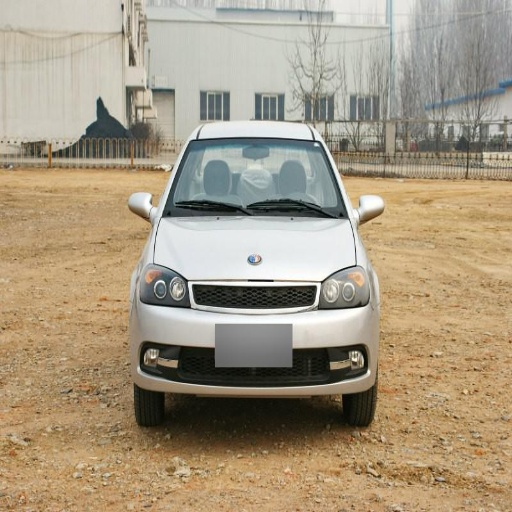front_bumper: (133, 269, 376, 399)
front_right_light: (138, 265, 187, 304)
hood: (155, 216, 355, 280)
